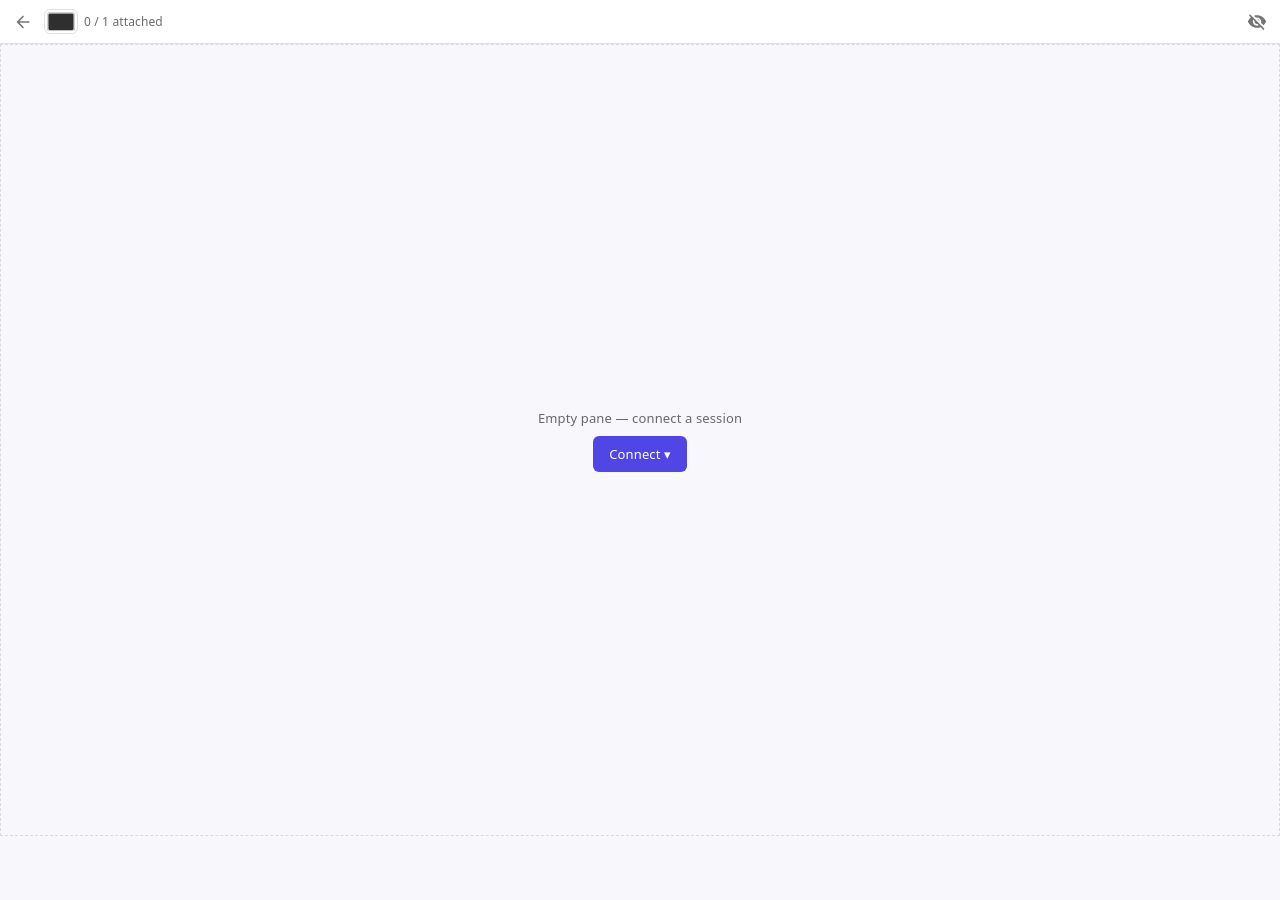
Test: TerminalLayout › shows active sessions in the connect menu
What coordinates should you click on to do the following:
click the button "Connect ▾"
I would click on:
 (640, 454)
Its box is [593, 436, 687, 472].
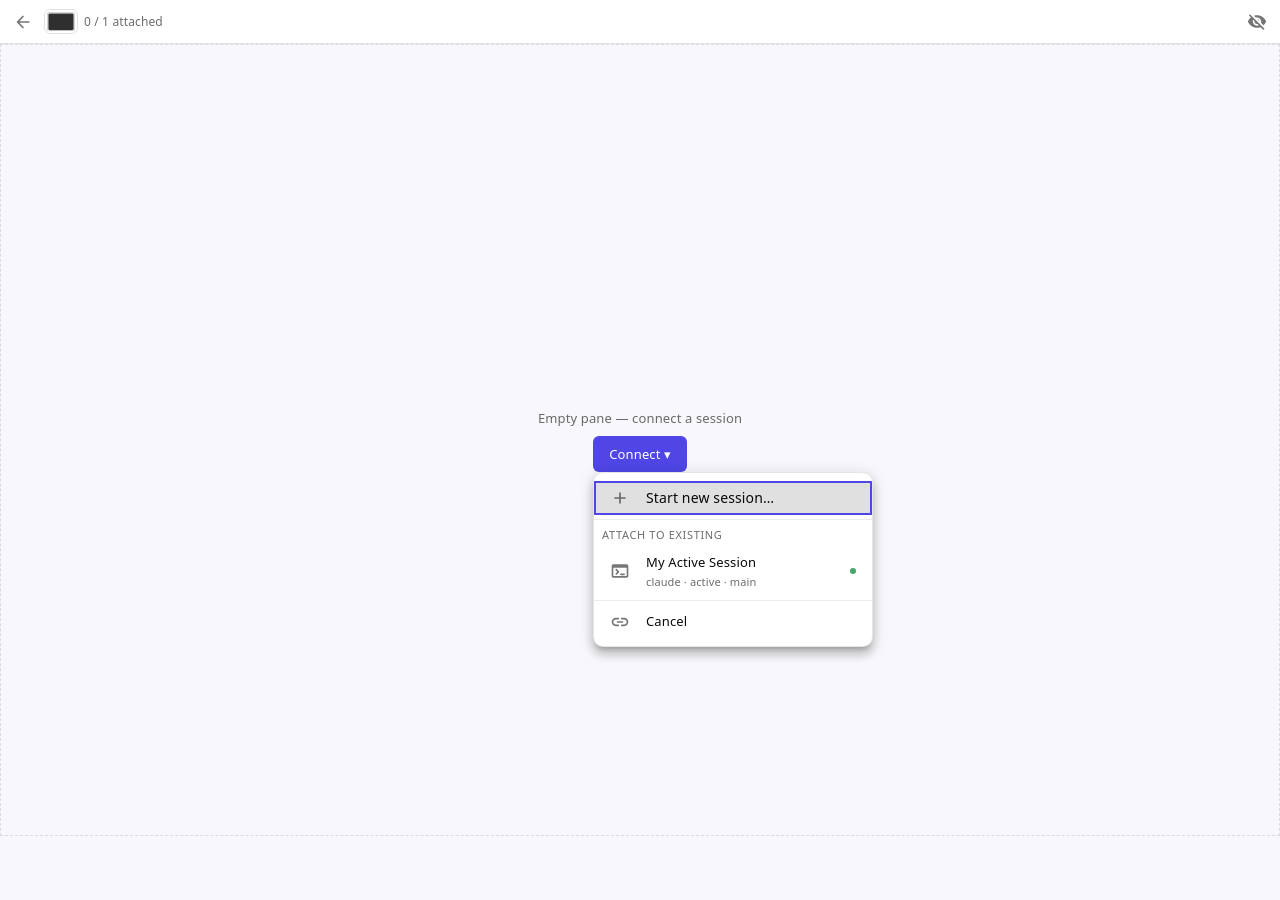
Expected: the text "My Active Session" is shown, [646, 553, 756, 571]
